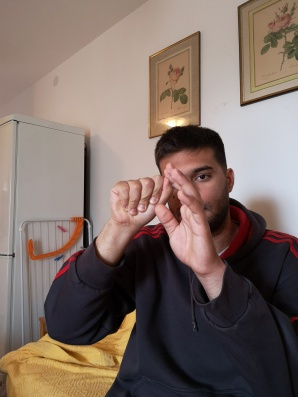A: (105, 173, 181, 227)
